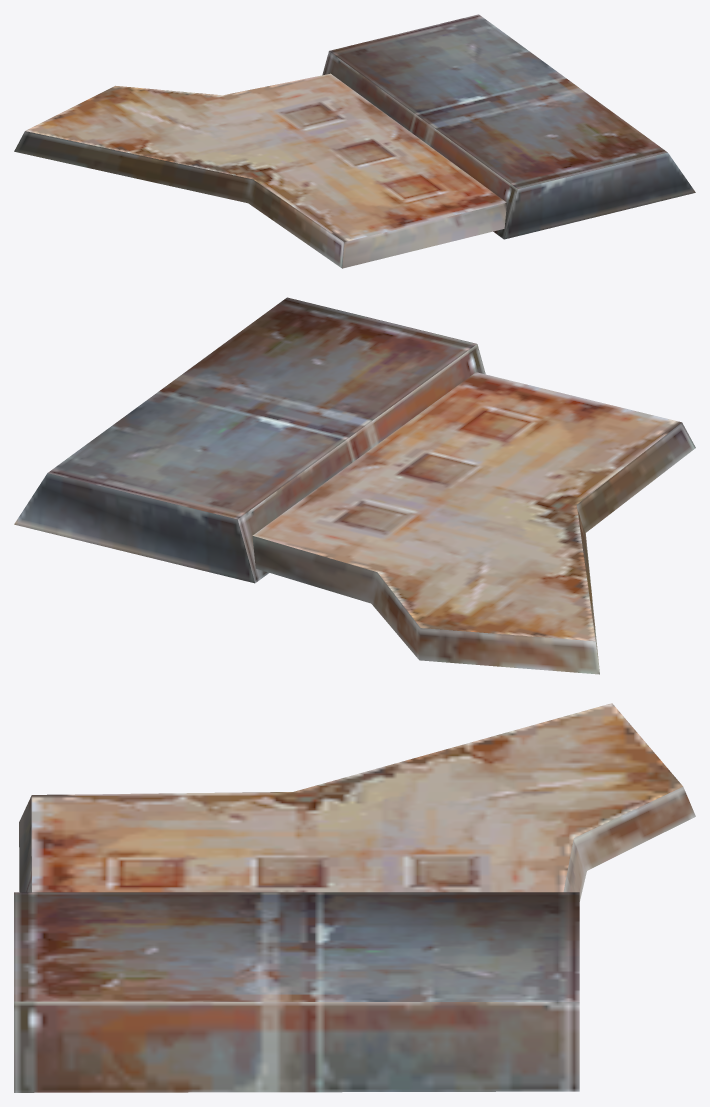
File: tyt_arch_fleshraider_junk_09.glb
3 views of the same model, one above another, from view 1: azimuth 30°, elevation 25°; view 2: azimuth 150°, elevation 25°; view 3: azimuth 270°, elevation 25° (orthographic). The views are drawn at different scales.
Parts seen in each view (by area): view 1: tyt_arch_fleshraider_junk_09; view 2: tyt_arch_fleshraider_junk_09; view 3: tyt_arch_fleshraider_junk_09.
Boxes of the visible parts, left/top/right/bottom form: tyt_arch_fleshraider_junk_09: left=14, top=14, right=695, bottom=268; tyt_arch_fleshraider_junk_09: left=14, top=297, right=695, bottom=674; tyt_arch_fleshraider_junk_09: left=14, top=703, right=695, bottom=1092.
Bounding box in the file's own units: 0.1962 × 0.0185 × 0.1619.
Materials: 1 (1 with a texture image).
